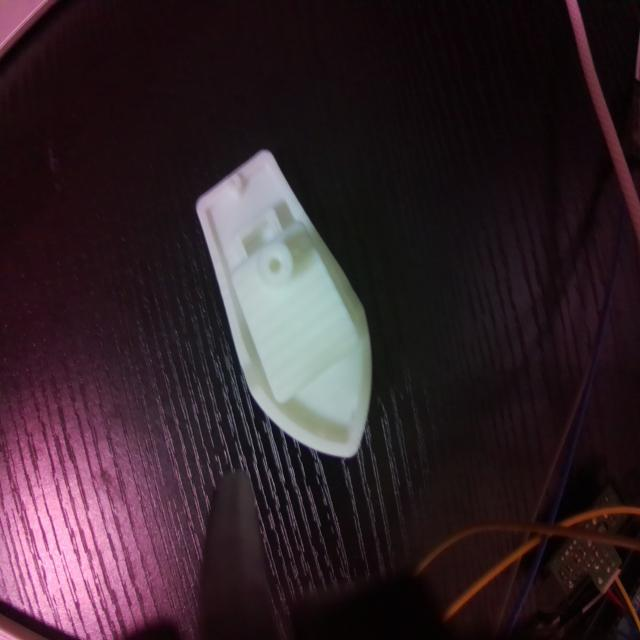ship: (196, 147, 375, 460)
